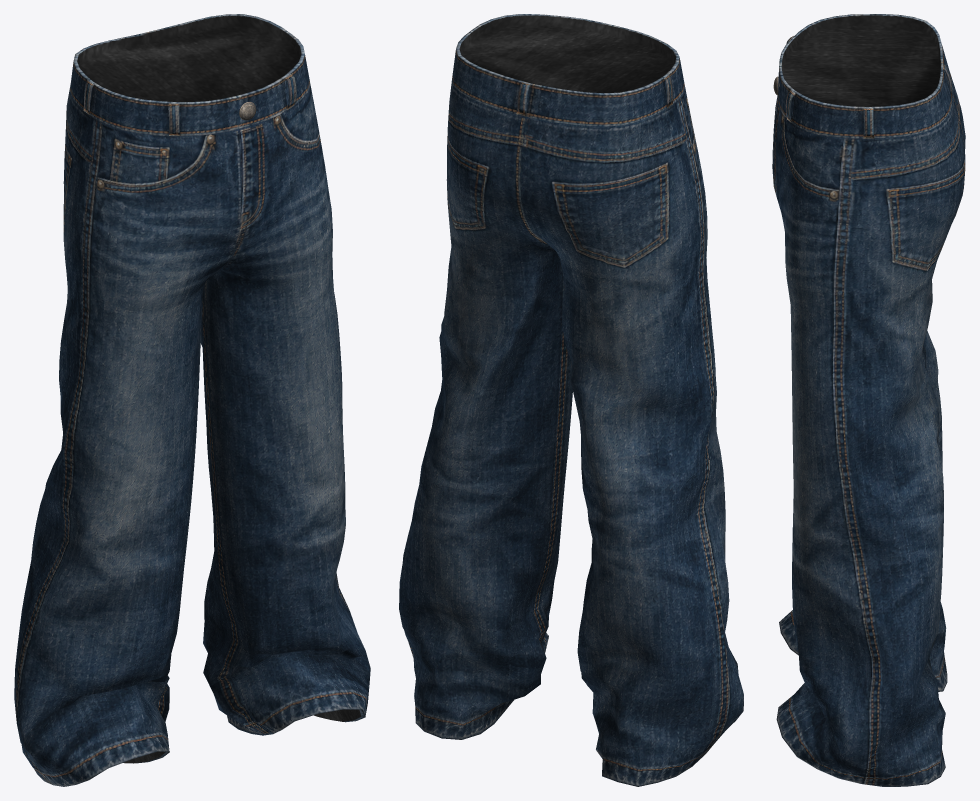
3 renders of one model, left to right at view 1: azimuth 30°, elevation 25°; view 2: azimuth 150°, elevation 25°; view 3: azimuth 270°, elevation 25°, orthographic. The views are drawn at different scales.
Parts seen in each view (by area): view 1: hash_F4D9814E.model; view 2: hash_F4D9814E.model; view 3: hash_F4D9814E.model.
Boxes of the visible parts, box(x1,y1,x2,y2) form: hash_F4D9814E.model: box(14, 14, 370, 786); hash_F4D9814E.model: box(399, 14, 743, 786); hash_F4D9814E.model: box(772, 14, 965, 786).
Size of the model in its own units: 0.5536 by 1.08 by 0.2843.
